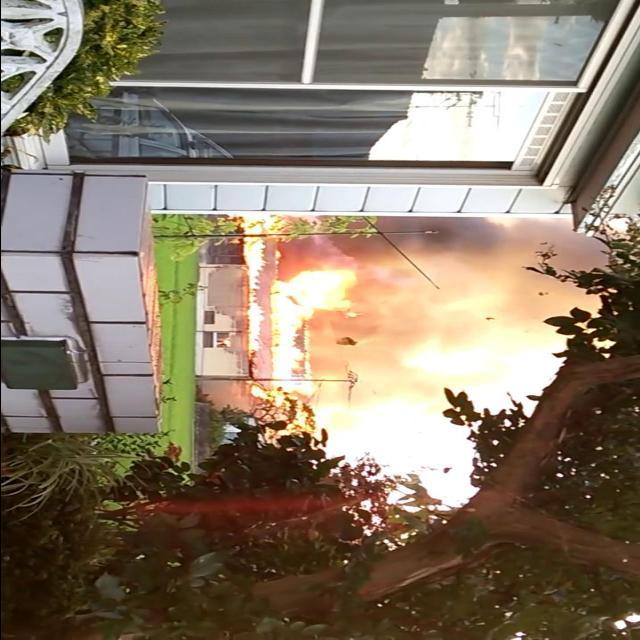Fire: (272, 277, 348, 391), (250, 386, 310, 433), (239, 242, 262, 354), (274, 250, 286, 268)
